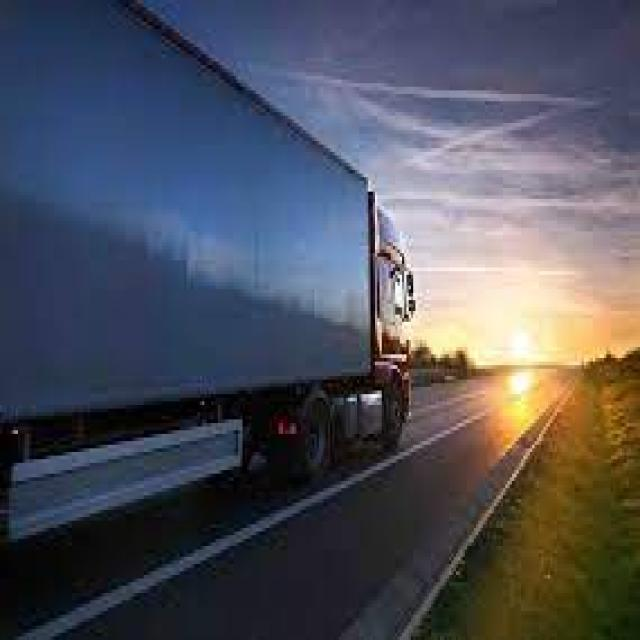Heavy Duty Truck: (2, 4, 416, 488)
